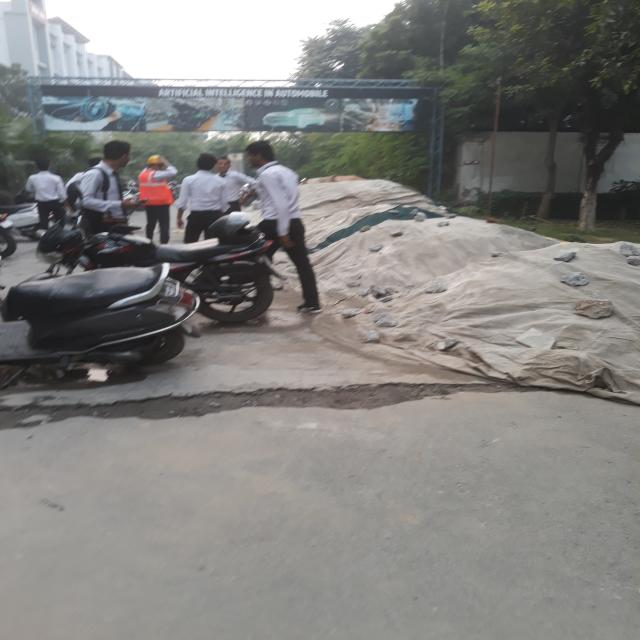safe: (139, 153, 177, 244)
unsafe: (232, 132, 334, 320), (89, 138, 133, 229), (25, 154, 71, 230), (180, 154, 217, 242), (214, 154, 247, 212)
